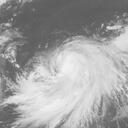cyclone: (7, 38, 118, 122)
